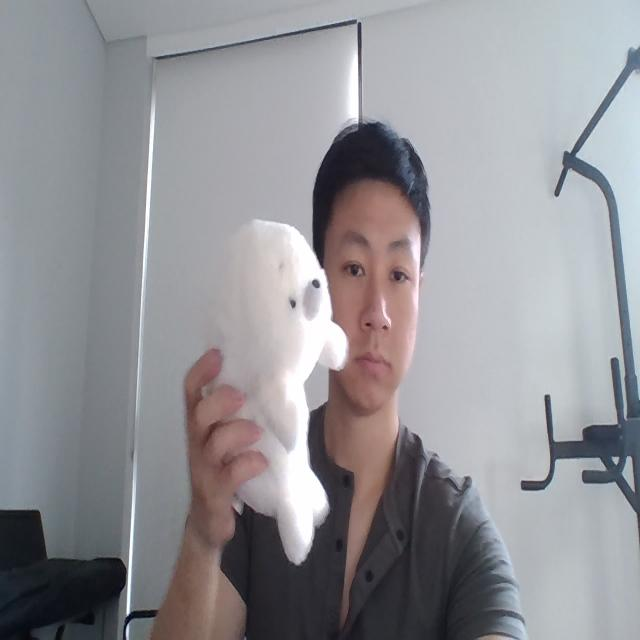seal_bb: (202, 220, 348, 564)
